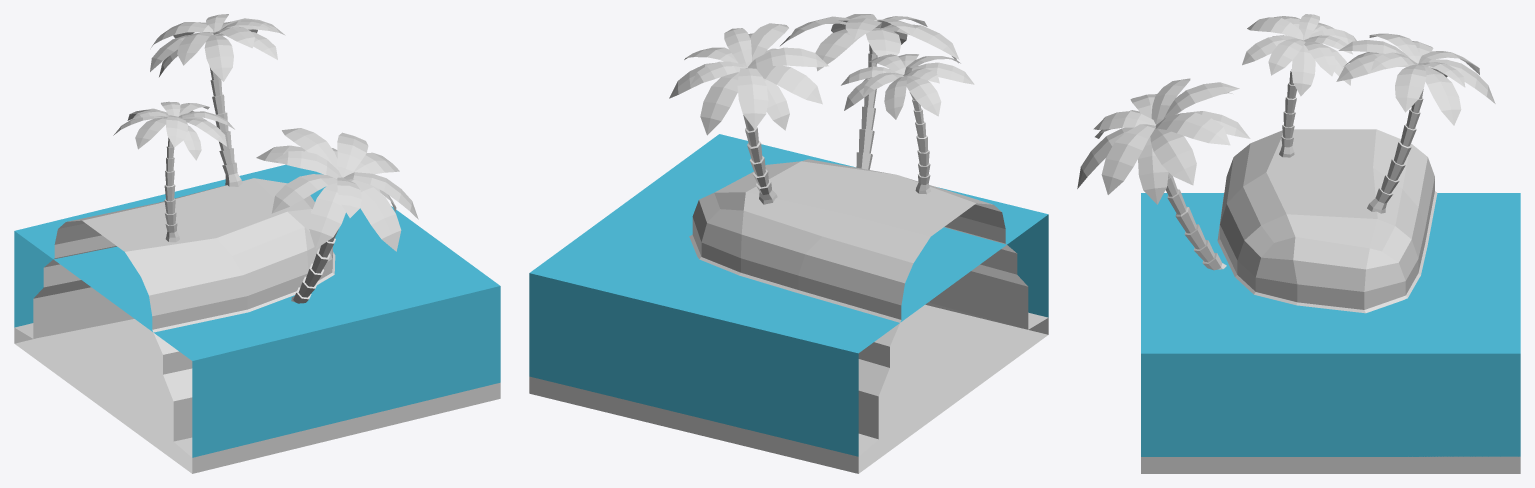
The model's file is Corner5.fbx.
3 renders of one model, left to right at view 1: azimuth 30°, elevation 25°; view 2: azimuth 150°, elevation 25°; view 3: azimuth 270°, elevation 25°, orthographic. The views are drawn at different scales.
Visible parts, largest first — view 1: IslandConnect; view 2: IslandConnect; view 3: IslandConnect.
Part boxes in pixels (<box>): IslandConnect: <box>14,14,500,473</box>; IslandConnect: <box>529,14,1048,473</box>; IslandConnect: <box>1077,14,1520,473</box>.
Size of the model in its own units: 200 by 203 by 234.
